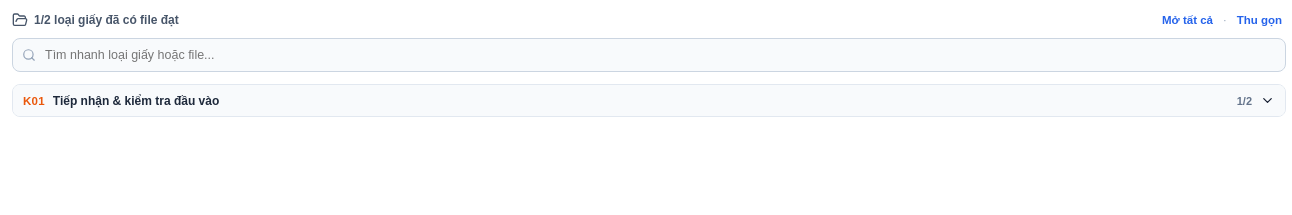
Scenario: ChecklistCabinetTree › hỗ trợ tìm kiếm lọc nhanh loại giấy và file đạt
Type "CCCD" into the search field named "Tìm kiếm trong tủ hồ sơ".
click(649, 55); type("CCCD")  # box x1=12 y1=38 x2=1286 y2=72
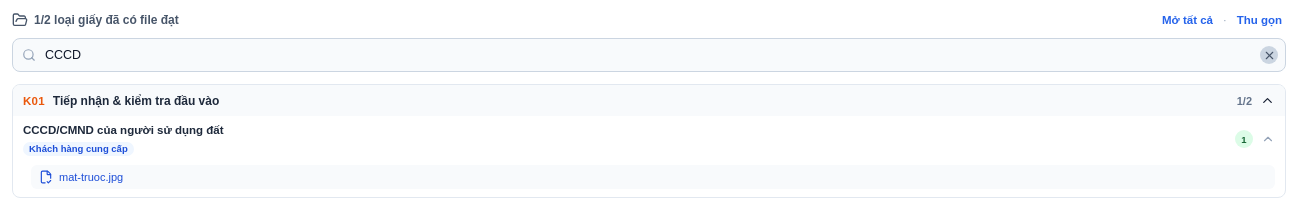
expect the text "CCCD/CMND của người sử dụng đất" is shown: met, box x1=23 y1=124 x2=224 y2=136
